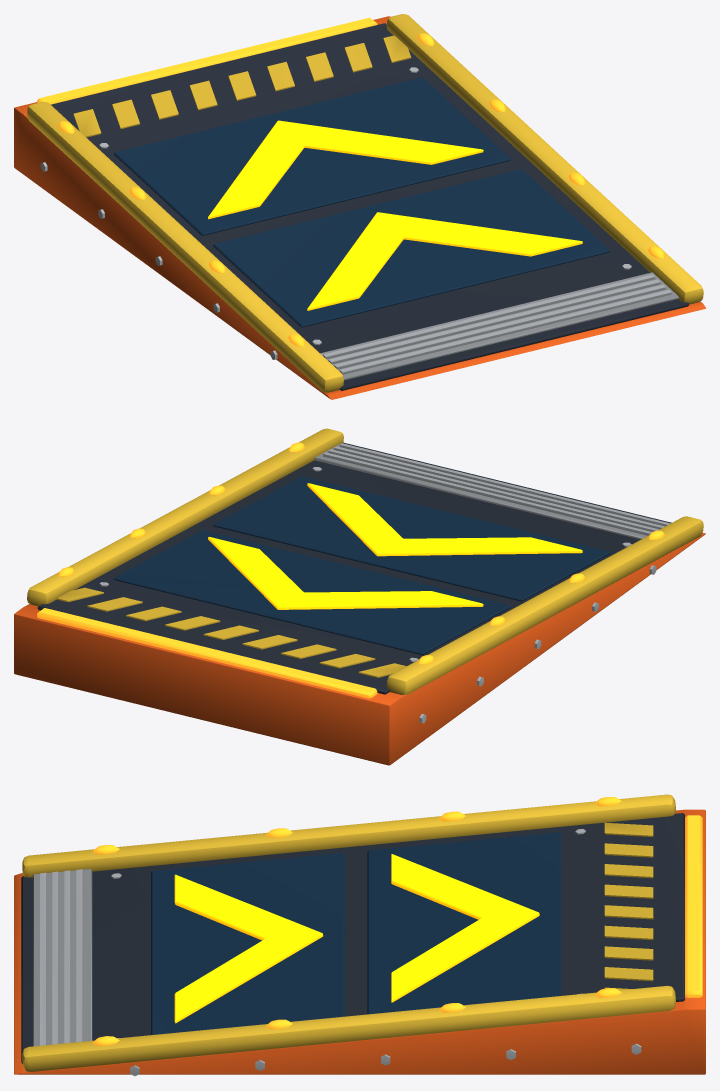
The model's file is launch-ramp.glb.
The picture shows the model from 3 angles, top to bottom: view 1: azimuth 30°, elevation 25°; view 2: azimuth 150°, elevation 25°; view 3: azimuth 270°, elevation 25°; orthographic projection. The views are drawn at different scales.
Parts seen in each view (by area): view 1: Ramp Ramp boost panel, Ramp Ramp grip deck, Ramp Ramp yellow, Ramp Ramp orange, Ramp Ramp steel, Forward launch arrow, Forward launch arrow 2, Ramp Ramp lip light; view 2: Ramp Ramp boost panel, Ramp Ramp orange, Ramp Ramp grip deck, Ramp Ramp yellow, Ramp Ramp steel, Forward launch arrow, Forward launch arrow 2, Ramp Ramp lip light; view 3: Ramp Ramp boost panel, Ramp Ramp yellow, Ramp Ramp grip deck, Ramp Ramp orange, Ramp Ramp steel, Forward launch arrow, Forward launch arrow 2, Ramp Ramp lip light.
Boxes of the visible parts, box(x1,y1,x2,y2) form: Ramp Ramp boost panel: box(113, 77, 610, 327); Ramp Ramp grip deck: box(51, 23, 688, 390); Ramp Ramp yellow: box(27, 14, 703, 392); Ramp Ramp orange: box(14, 16, 705, 399); Ramp Ramp steel: box(40, 67, 678, 380); Forward launch arrow: box(307, 212, 582, 310); Forward launch arrow 2: box(208, 120, 483, 219); Ramp Ramp lip light: box(37, 17, 665, 346); Ramp Ramp boost panel: box(113, 476, 610, 655); Ramp Ramp orange: box(14, 533, 705, 765); Ramp Ramp grip deck: box(37, 443, 671, 694); Ramp Ramp yellow: box(27, 428, 703, 694); Ramp Ramp steel: box(99, 443, 670, 723); Forward launch arrow: box(307, 483, 582, 556); Forward launch arrow 2: box(208, 537, 483, 609); Ramp Ramp lip light: box(37, 442, 665, 698); Ramp Ramp boost panel: box(151, 832, 561, 1034); Ramp Ramp yellow: box(22, 794, 675, 1071); Ramp Ramp grip deck: box(21, 813, 684, 1063); Ramp Ramp orange: box(14, 809, 705, 1074); Ramp Ramp steel: box(33, 829, 641, 1076); Forward launch arrow: box(174, 874, 323, 1023); Forward launch arrow 2: box(391, 854, 539, 1002); Ramp Ramp lip light: box(92, 797, 702, 1045).
Size of the model in its own units: 2.76 by 0.5199 by 3.97.
